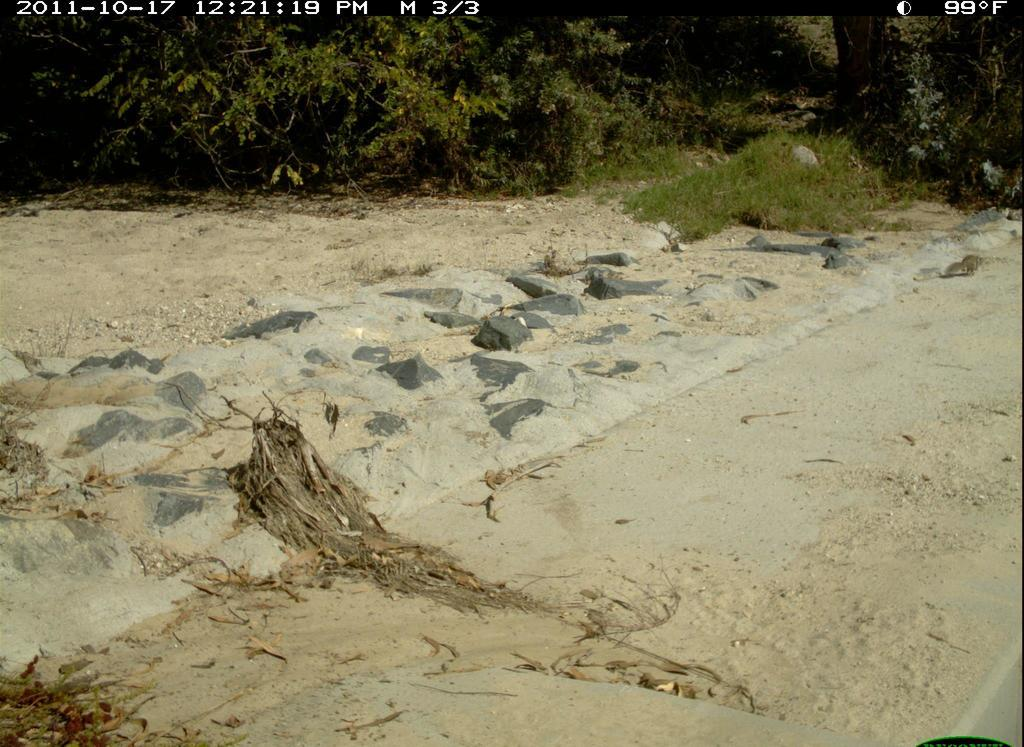squirrel: (934, 248, 993, 286)
